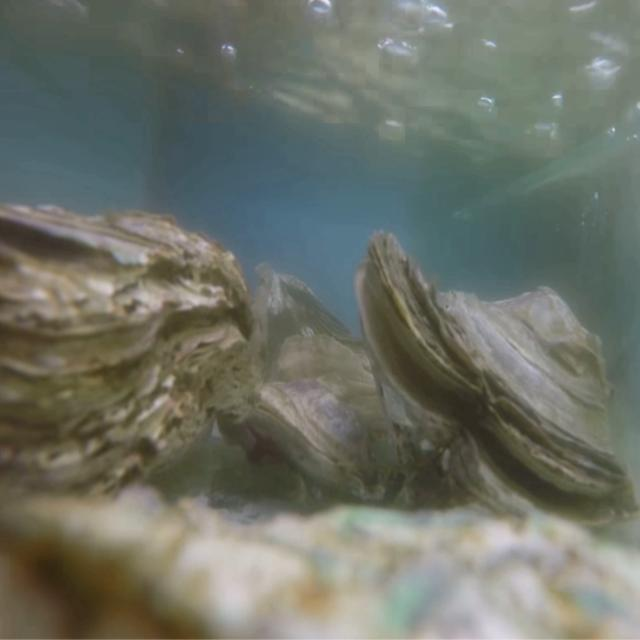Oyster-Closed: (0, 201, 255, 528), (256, 335, 413, 511)
Oyster-Indeterminate: (0, 484, 640, 640), (254, 255, 370, 372)
Oyster-Open: (353, 228, 640, 540)
